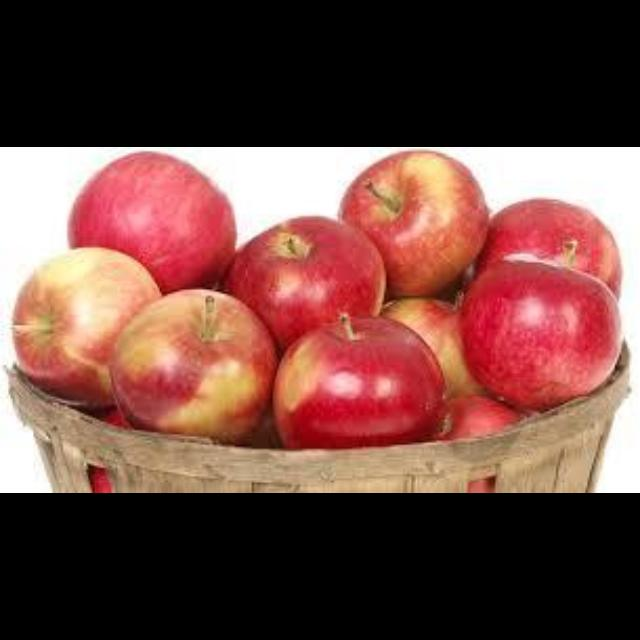apple: (109, 290, 277, 443), (10, 248, 159, 407), (460, 262, 621, 409), (69, 151, 233, 292), (273, 315, 443, 447), (340, 149, 487, 296), (225, 216, 384, 348), (474, 197, 621, 296), (382, 298, 485, 397)
